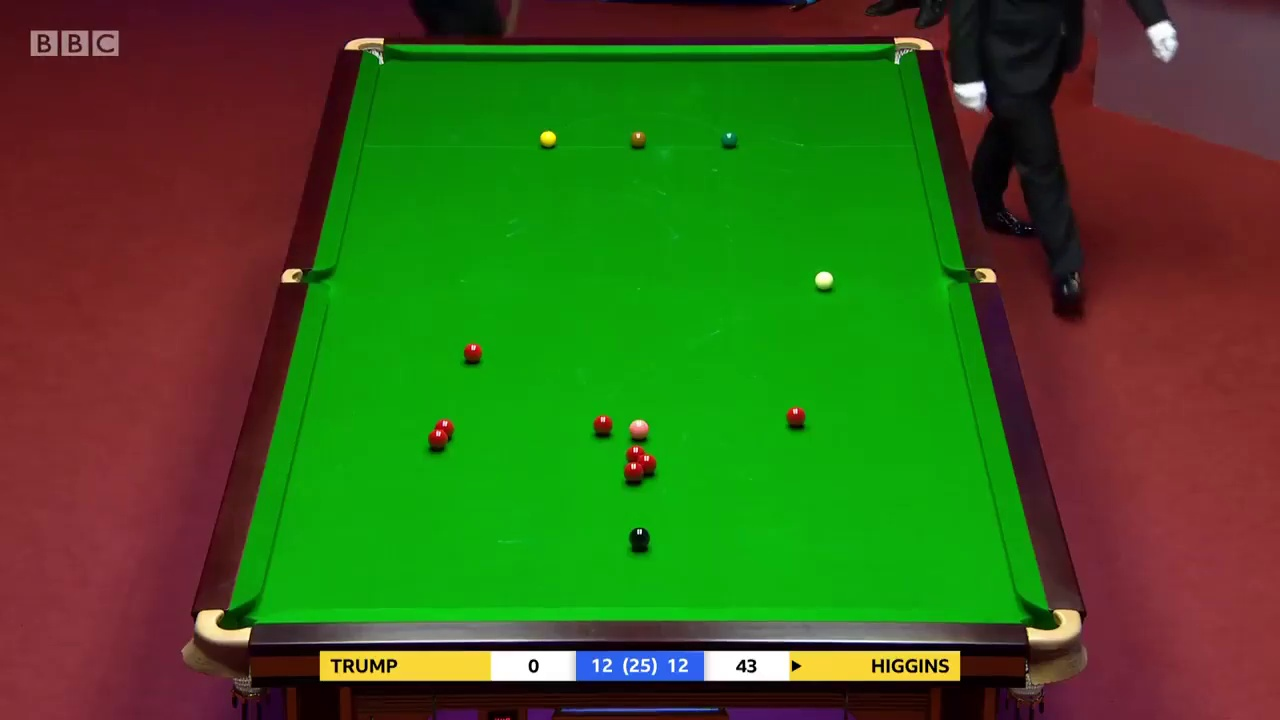ball: (463, 342, 484, 367), (626, 525, 652, 545), (621, 460, 644, 481), (812, 273, 833, 295), (786, 407, 806, 428), (426, 427, 447, 447), (628, 418, 647, 438), (538, 129, 555, 148), (722, 130, 739, 149), (595, 413, 612, 432), (630, 131, 644, 148)
